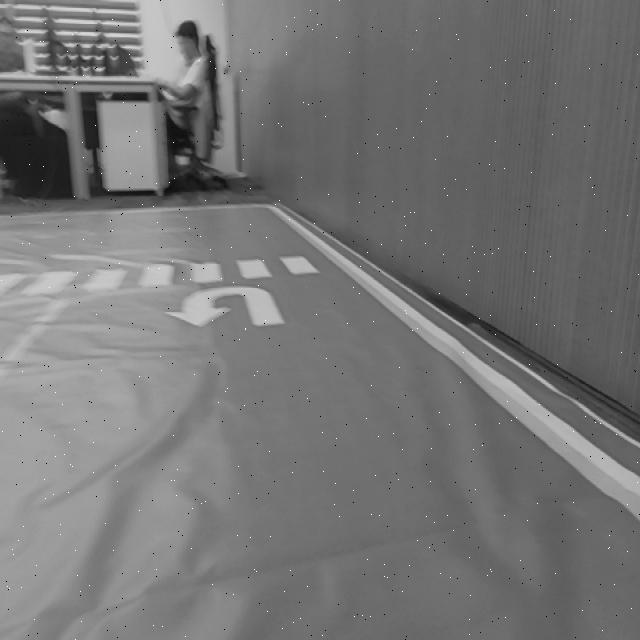left_lane: (1, 296, 70, 387)
right_lane: (269, 206, 640, 524)
